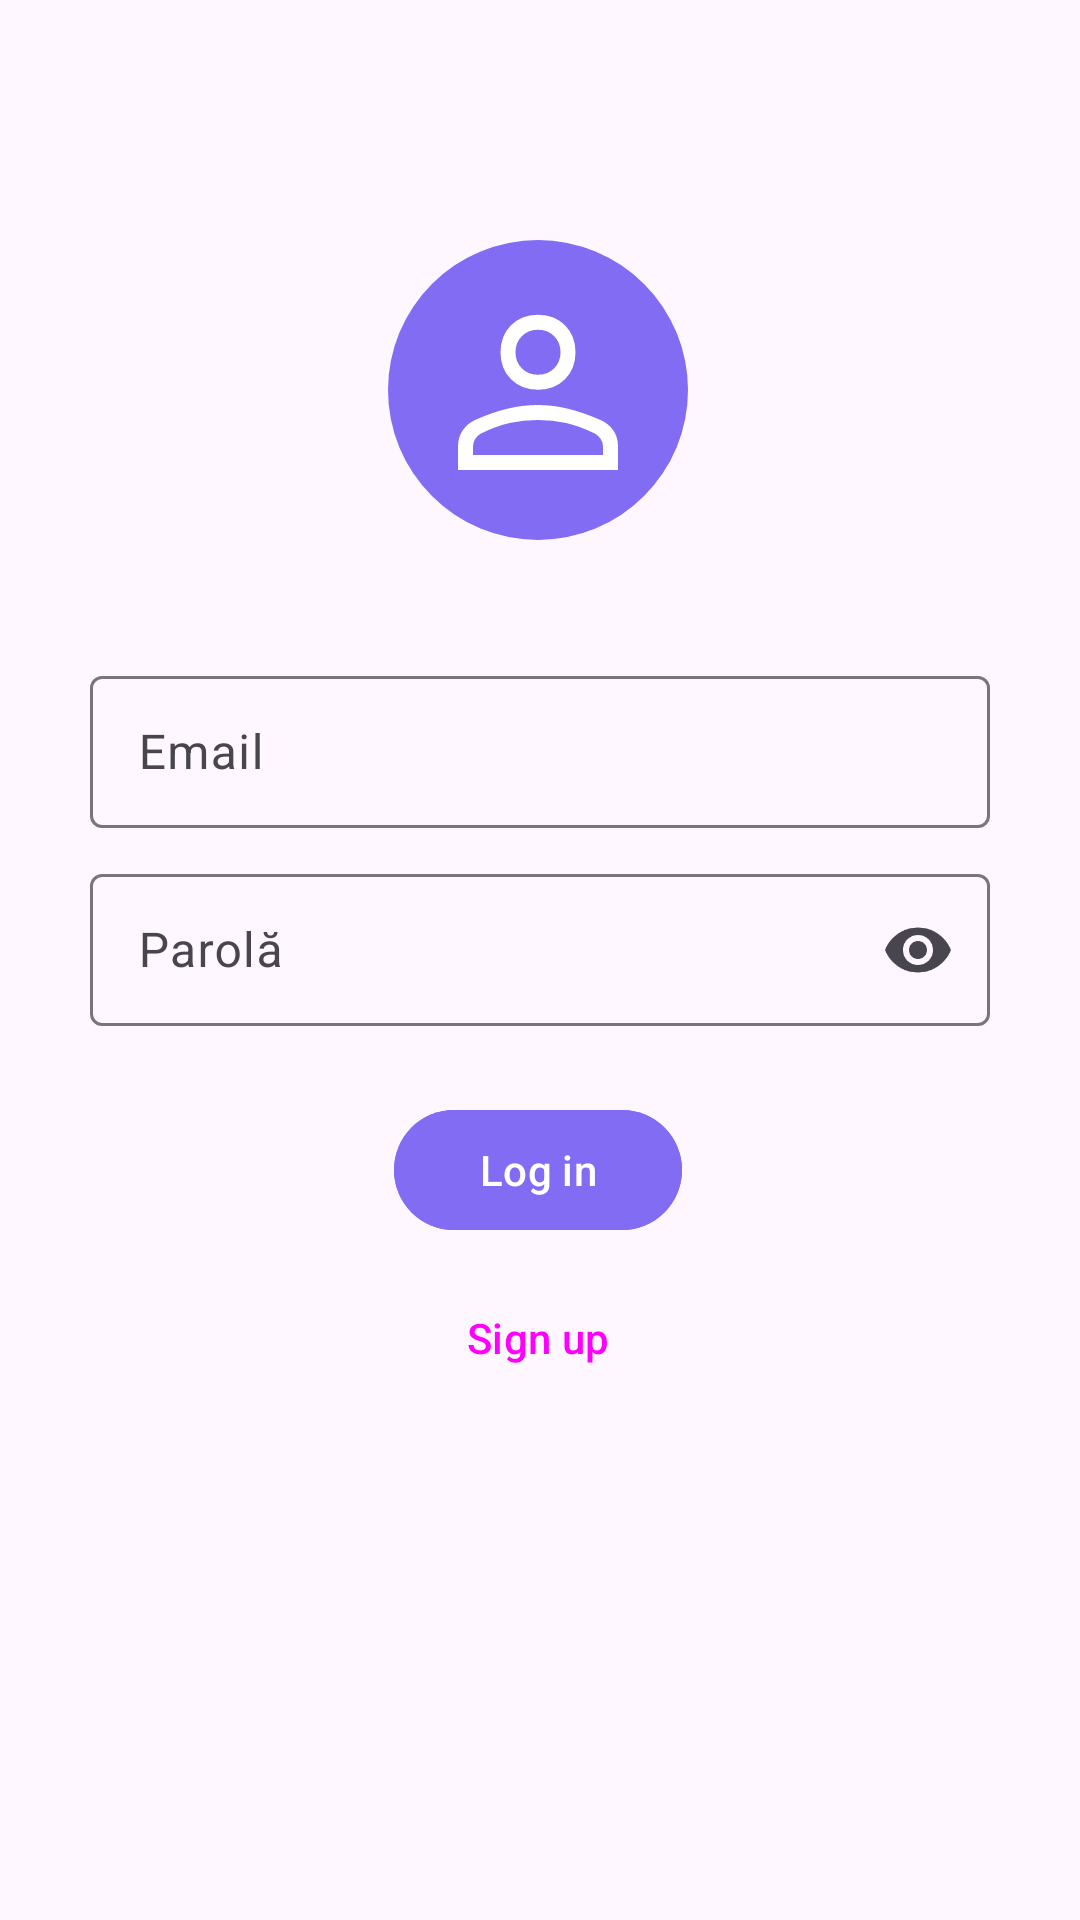

Screen size 1080 × 1920. Icon name, then its box in pixels as box=[x1, y1, x2, y2]:
profile: box=[388, 240, 688, 540]
